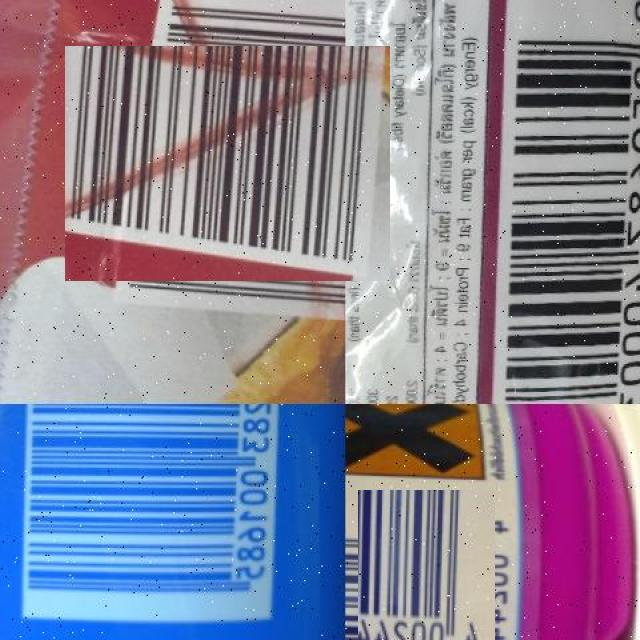Barcode: (87, 23, 368, 303), (482, 0, 640, 404), (9, 404, 279, 619), (351, 497, 502, 640)
